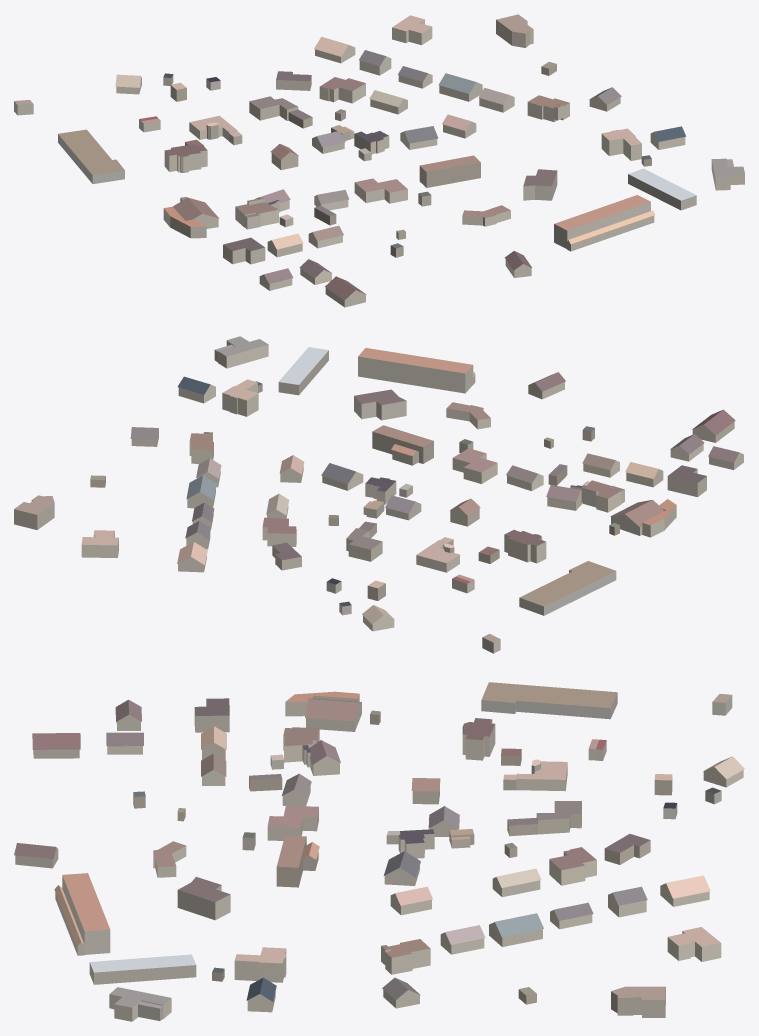
3 renders of one model, top to bottom at view 1: azimuth 30°, elevation 25°; view 2: azimuth 150°, elevation 25°; view 3: azimuth 270°, elevation 25°, orthographic. The views are drawn at different scales.
Parts seen in each view (by area): view 1: tuile; view 2: tuile; view 3: tuile.
Part boxes in pixels (box(x1,y1,x2,y2)): tuile: box(14, 14, 744, 307); tuile: box(14, 336, 743, 653); tuile: box(14, 682, 744, 1021).
Bounding box in the file's own units: 258 × 15.48 × 256.
